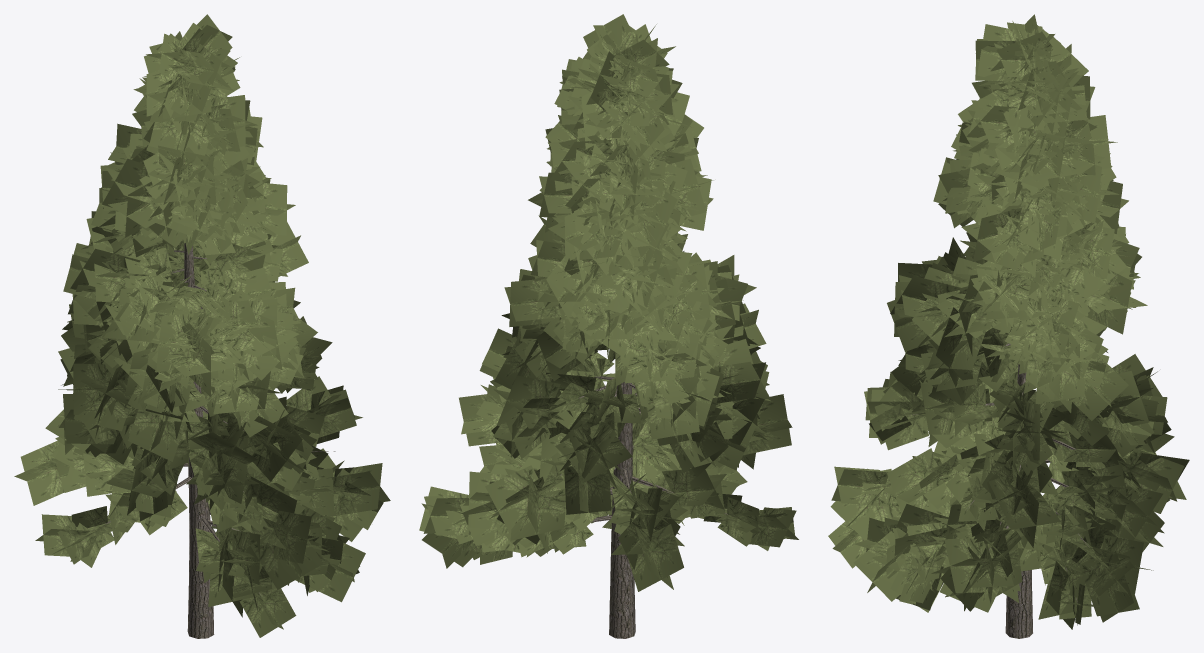
The model's file is fir.glb.
The picture shows the model from 3 angles, left to right: view 1: azimuth 30°, elevation 25°; view 2: azimuth 150°, elevation 25°; view 3: azimuth 270°, elevation 25°; orthographic projection.
Parts seen in each view (by area): view 1: eztree-fir; view 2: eztree-fir; view 3: eztree-fir.
Boxes of the visible parts, left/top/right/bottom form: eztree-fir: left=14, top=14, right=390, bottom=638; eztree-fir: left=419, top=14, right=798, bottom=638; eztree-fir: left=828, top=14, right=1189, bottom=638.
Size of the model in its own units: 10.08 by 18 by 9.61.
2 materials, 2 textured.
